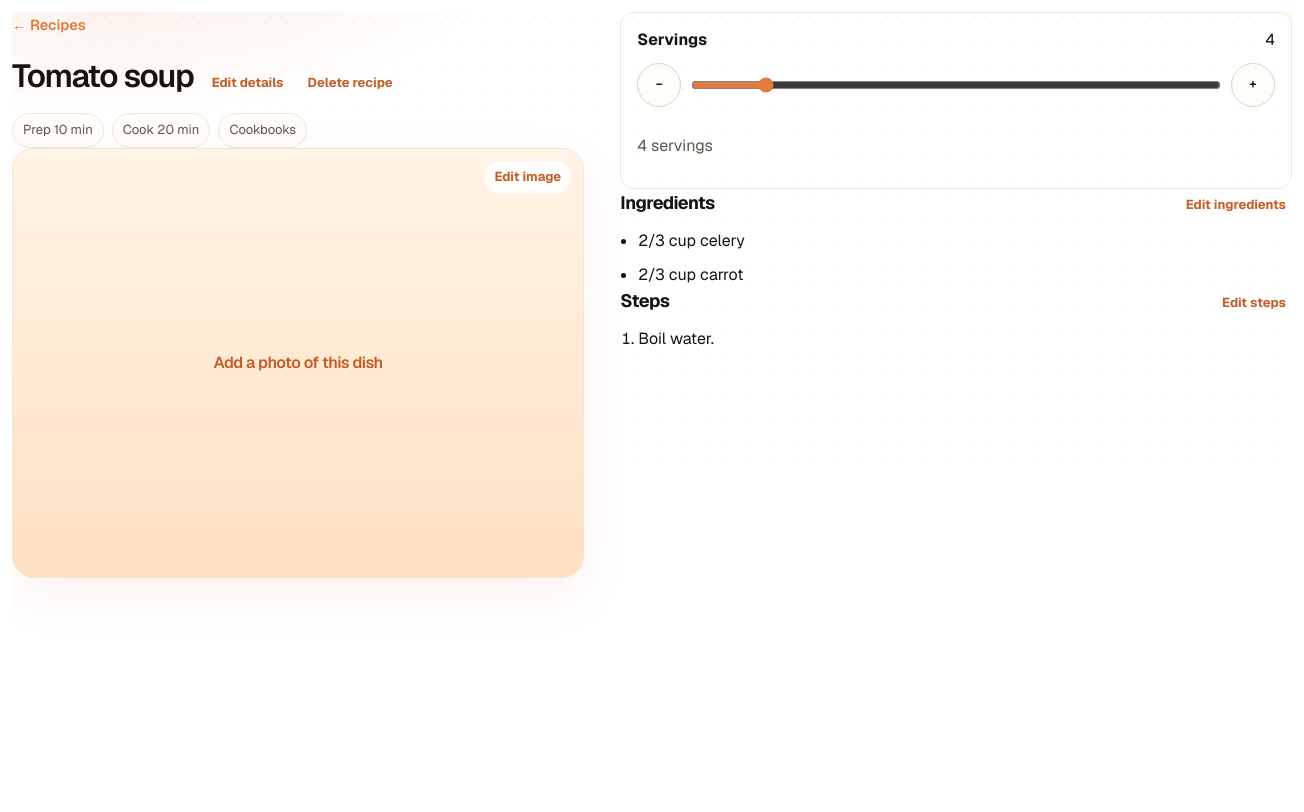
RecipeDetail default servings › renders schema.org 2/3 decimals as cooking fractions at 1x and when scaled
The width and height of the screenshot is (1304, 812).
Expected: the list item "2/3 cup celery" is shown, 638,230 -> 745,251
Expected: the list item "2/3 cup carrot" is shown, 638,264 -> 744,285
Click the button named "More servings": (1253, 85) 1231,63 -> 1275,107
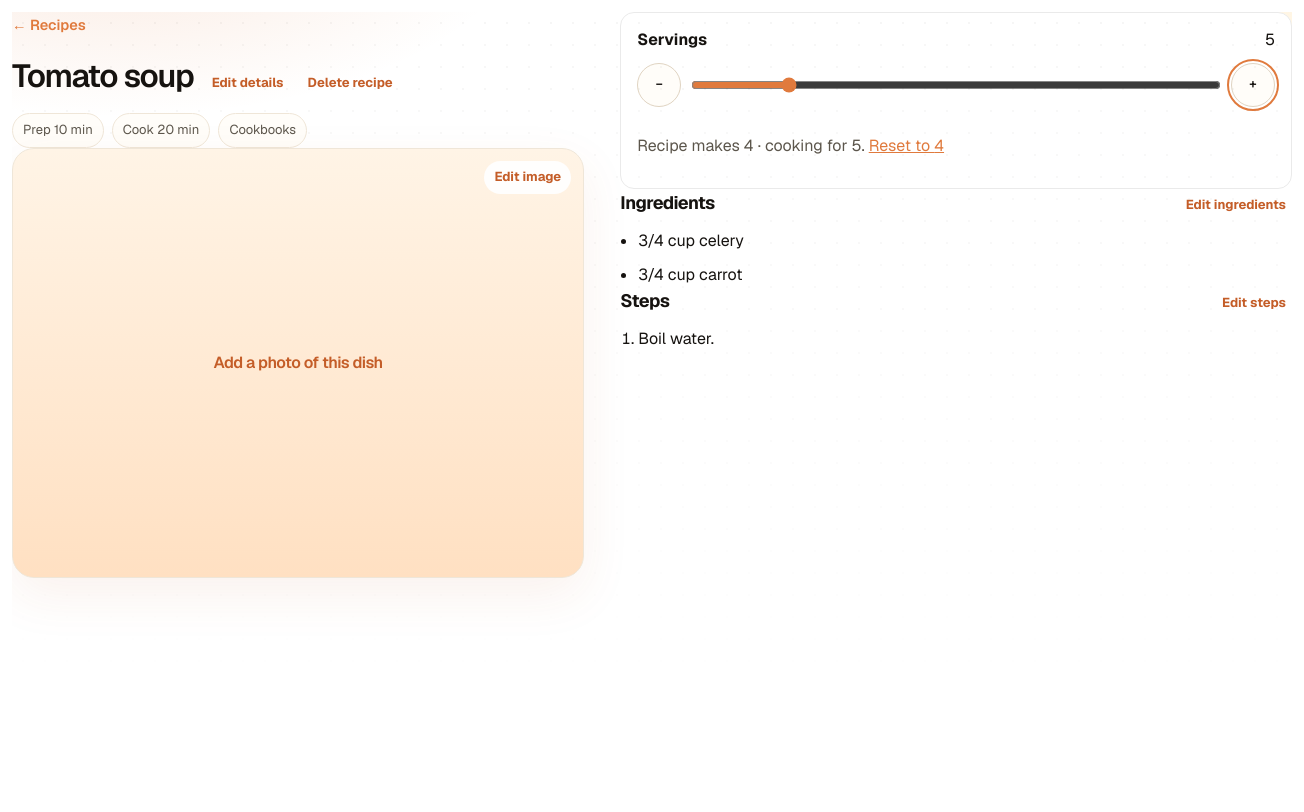
Click the button named "More servings": (1253, 85) 1231,63 -> 1275,107
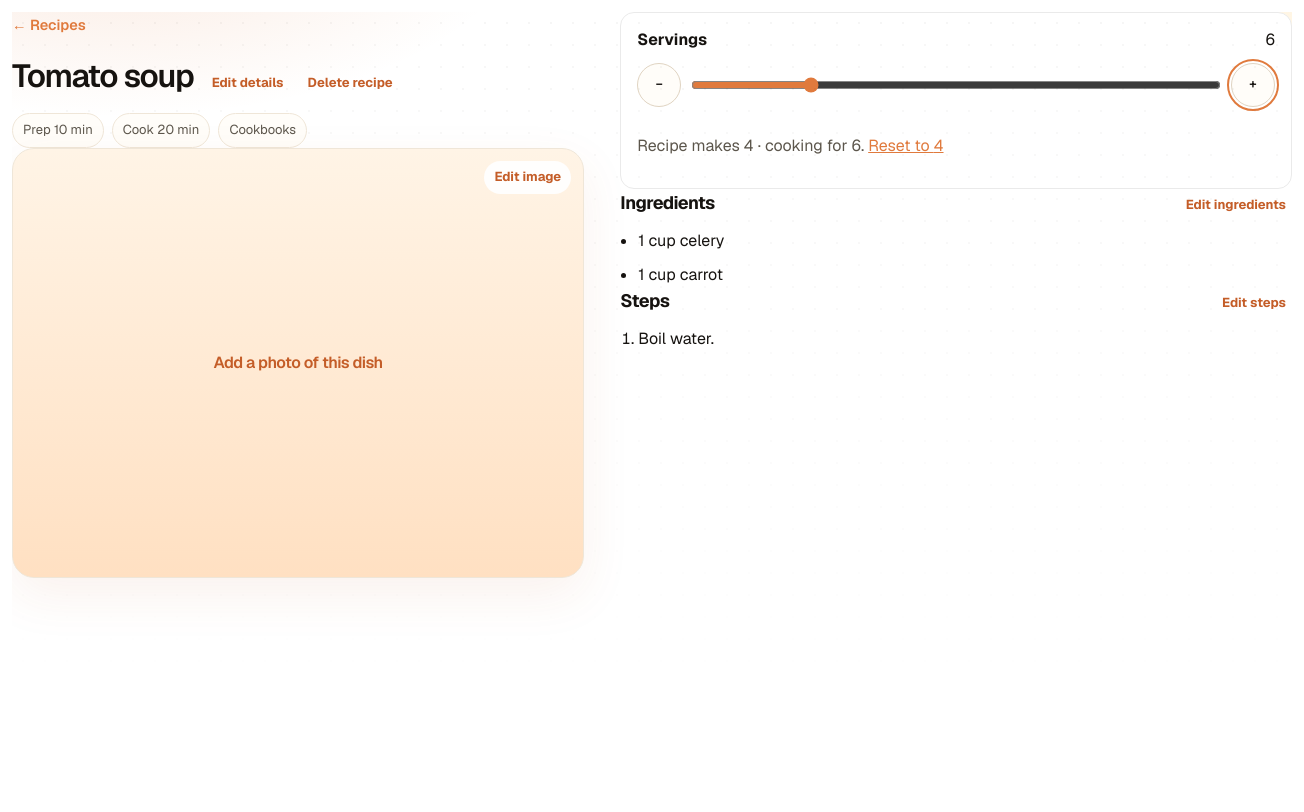
Click the button named "More servings": (1253, 85) 1231,63 -> 1275,107
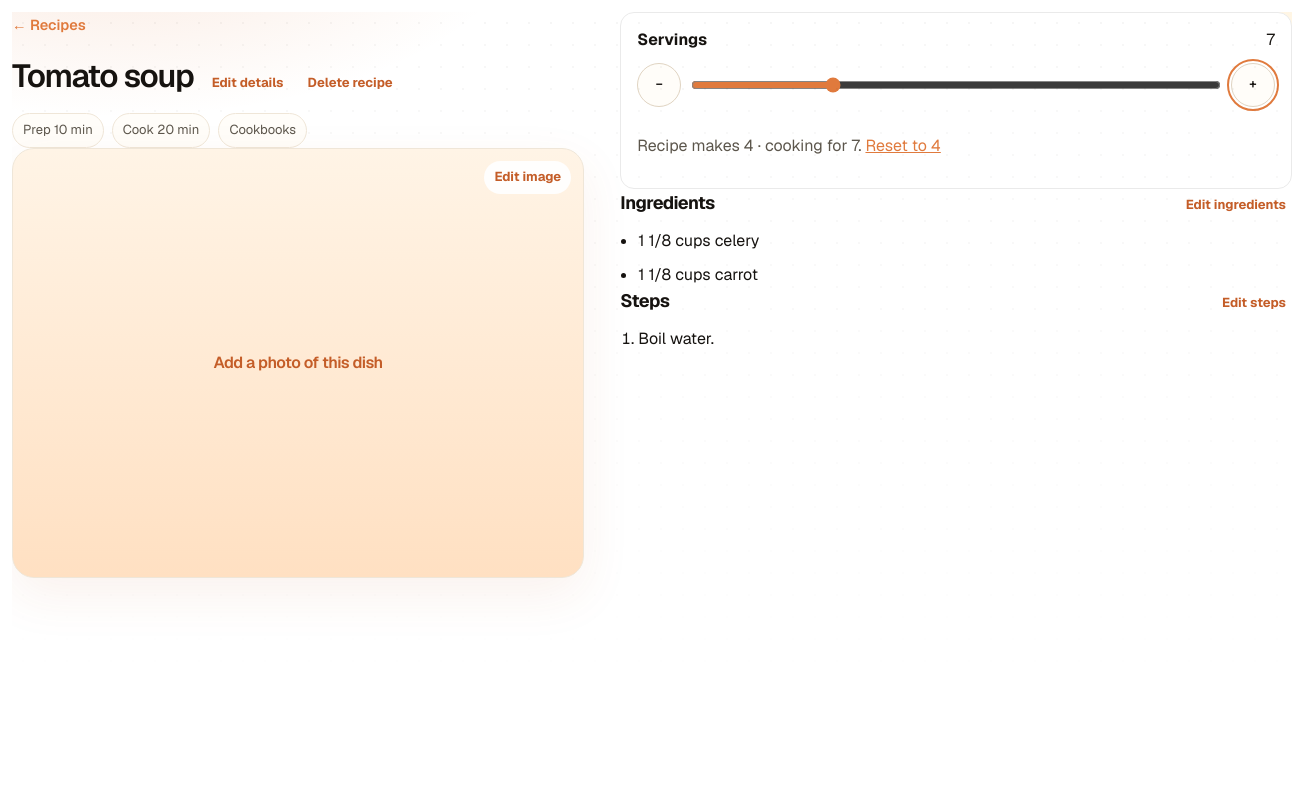
Click the button named "More servings": (1253, 85) 1231,63 -> 1275,107
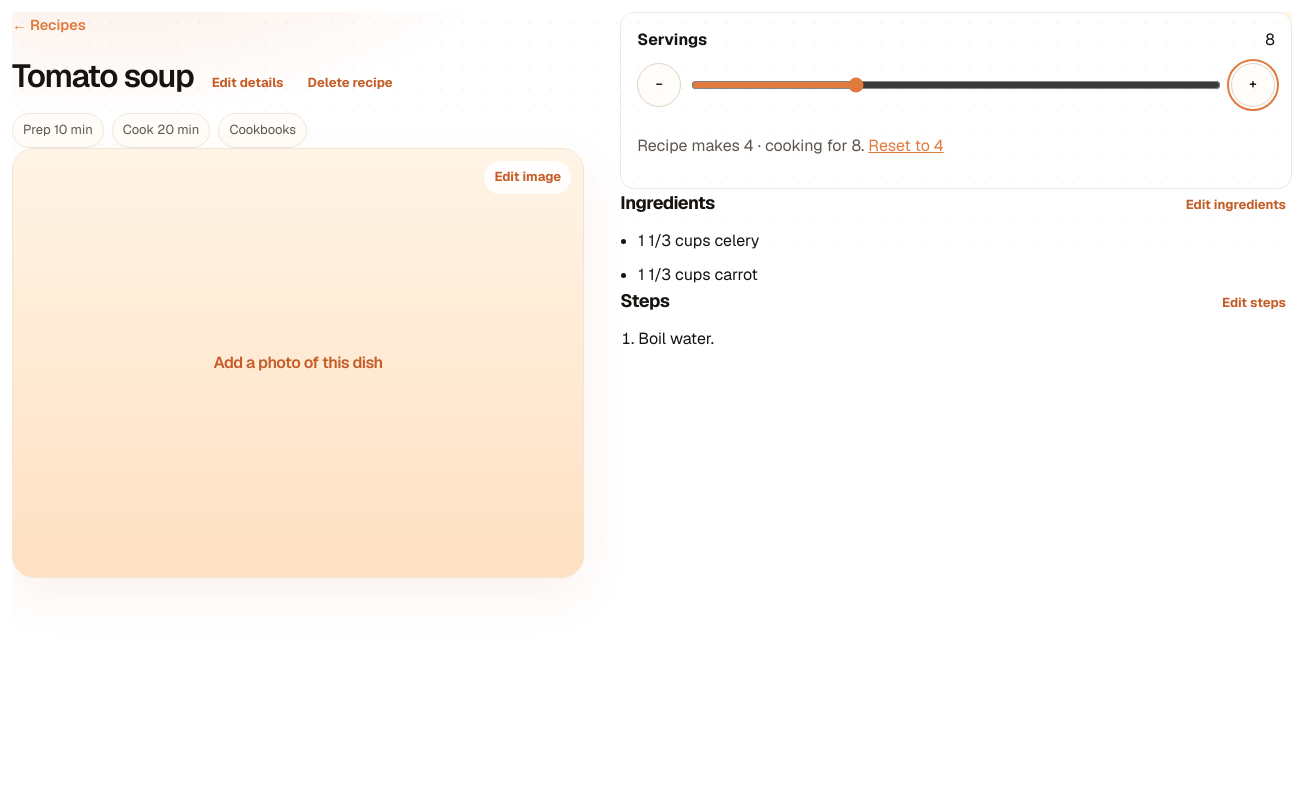
Now the list item "1 1/3 cups celery" is shown, box 638,230 -> 759,251
Now the list item "1 1/3 cups carrot" is shown, box 638,264 -> 758,285
